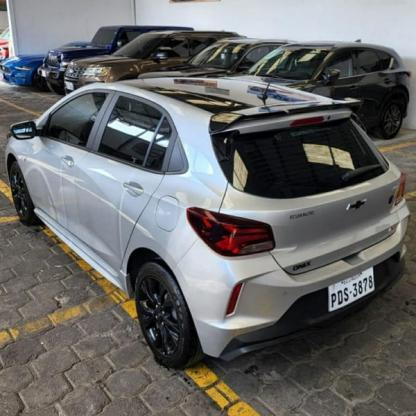Placa: (325, 266, 377, 311)
